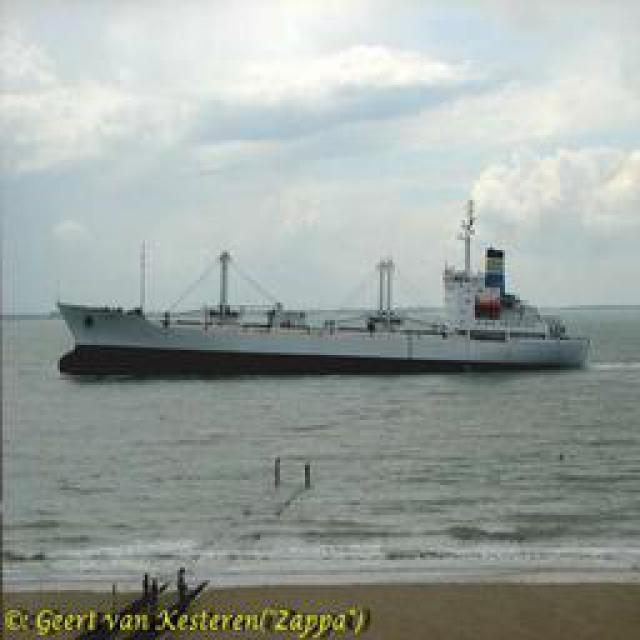Ship: (60, 235, 588, 383)
